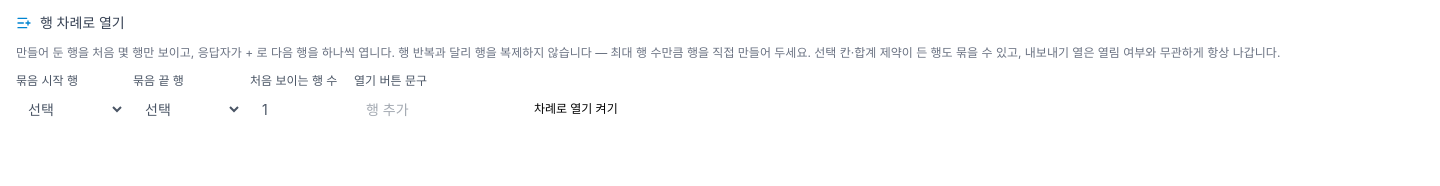
행 차례로 열기 설정 카드 › 보기 옵션 셀이 든 행은 지정을 막는다 — 그 선택은 행의 칸 값이 아닌 곳에 저장된다
Select "2행 · 국가 1" in the dropdown labelled "묶음 시작 행" at (70, 109), box [16,93,125,125]
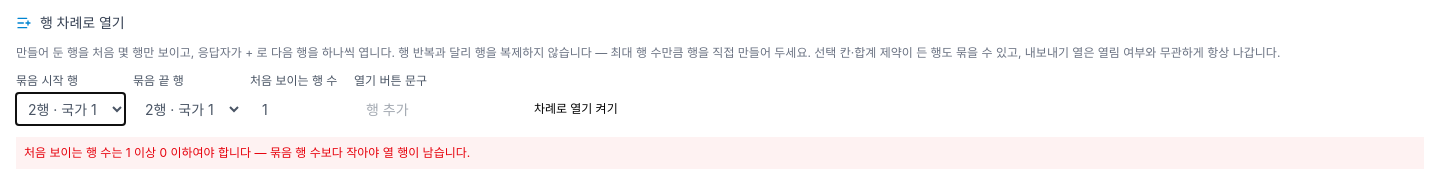
Select "5행 · 국가 4" in the dropdown labelled "묶음 끝 행" at (188, 109), box [133,93,242,125]
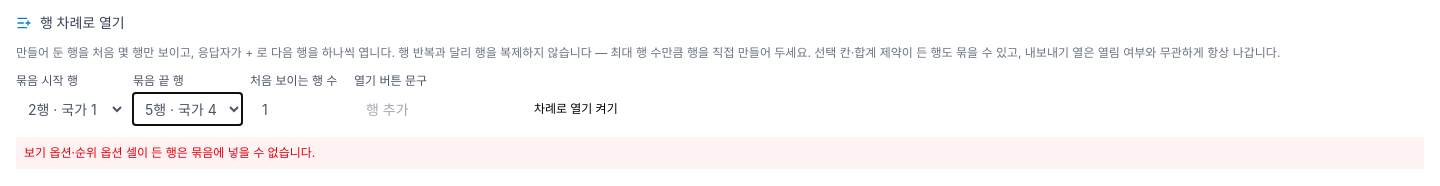
Check: the button "차례로 열기 켜기" is disabled, box [522,93,630,125]
Check: the list item "보기 옵션·순위 옵션 셀이 든 행은 묶음에 넣을 수 없습니다." is shown, box [24,145,315,160]
